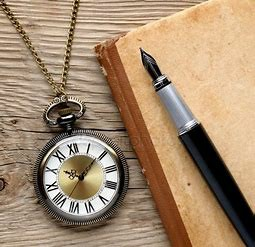pen: (139, 47, 254, 245)
